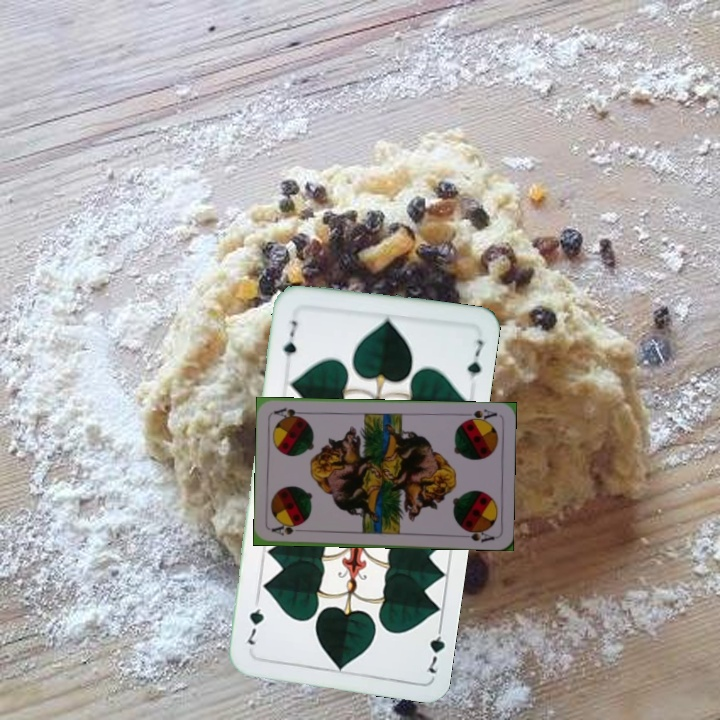G7: (422, 619, 447, 676), (279, 316, 300, 359)
SA: (459, 405, 500, 425), (268, 521, 302, 538)
